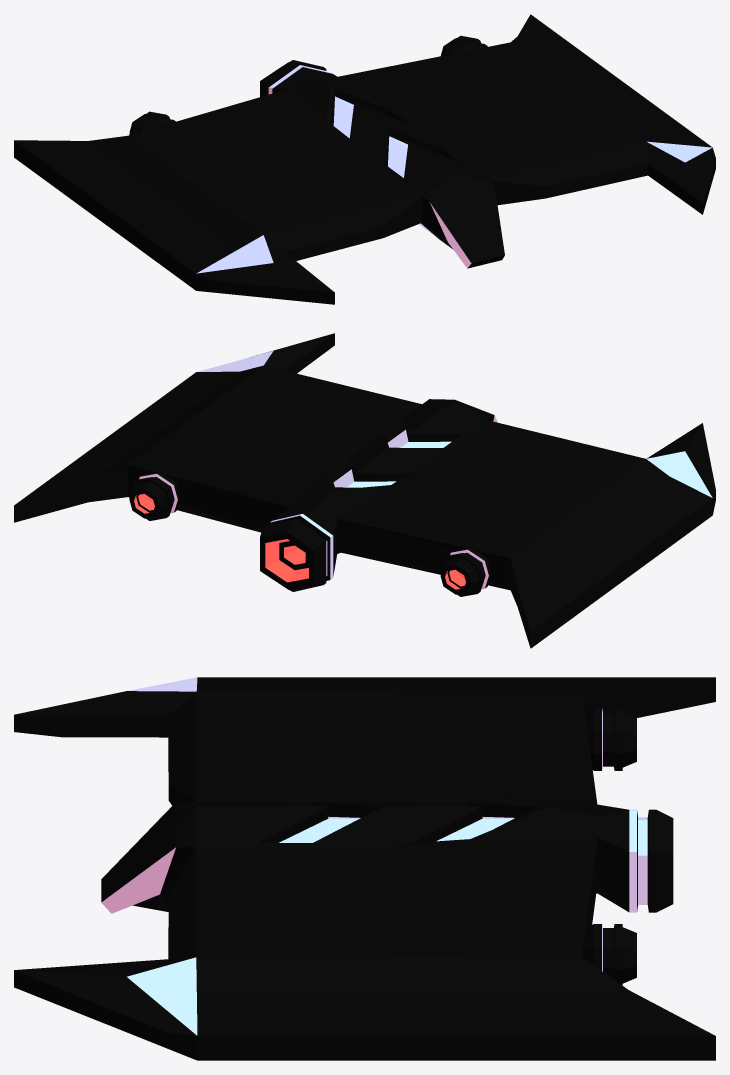
File: hammer_ship.fbx
3 views of the same model, one above another, from view 1: azimuth 30°, elevation 25°; view 2: azimuth 150°, elevation 25°; view 3: azimuth 270°, elevation 25° (orthographic). The views are drawn at different scales.
Parts seen in each view (by area): view 1: Hammer; view 2: Hammer; view 3: Hammer.
Part boxes in pixels (left/top/right/bottom): Hammer: left=14, top=14, right=715, bottom=304; Hammer: left=14, top=333, right=715, bottom=648; Hammer: left=14, top=677, right=715, bottom=1060.
Bounding box in the file's own units: 331 × 46.02 × 274.
